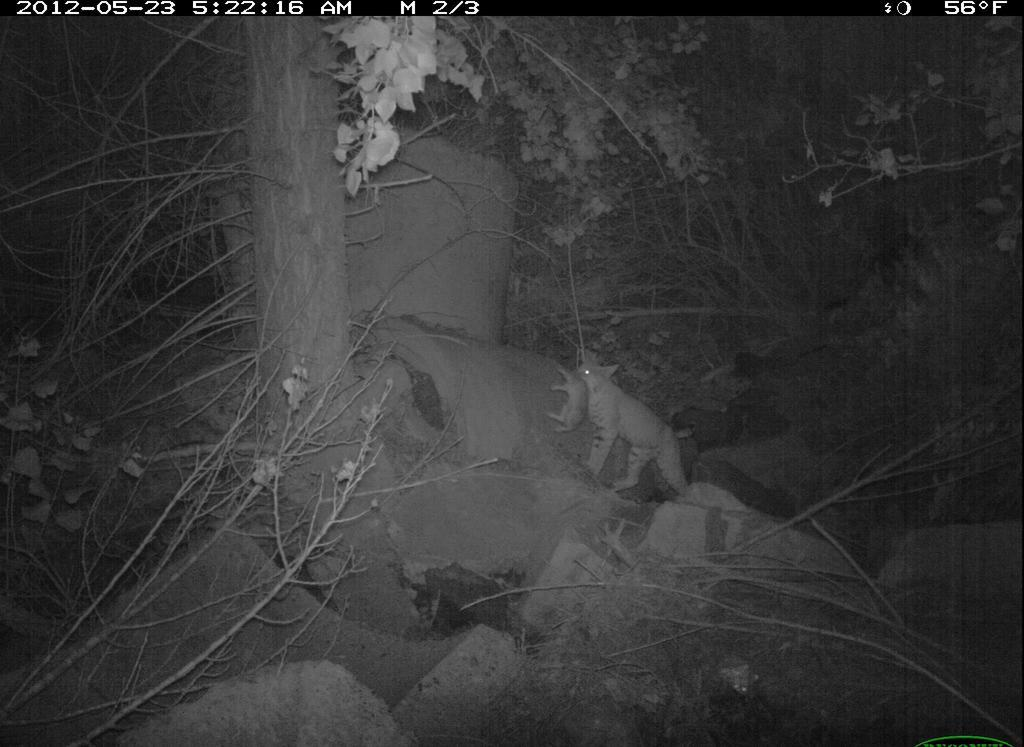bobcat: (543, 354, 705, 501)
